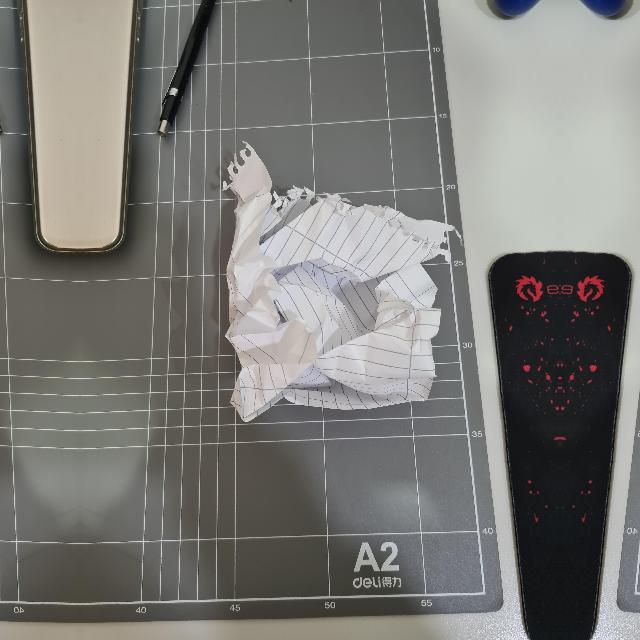paper: (218, 148, 444, 426)
